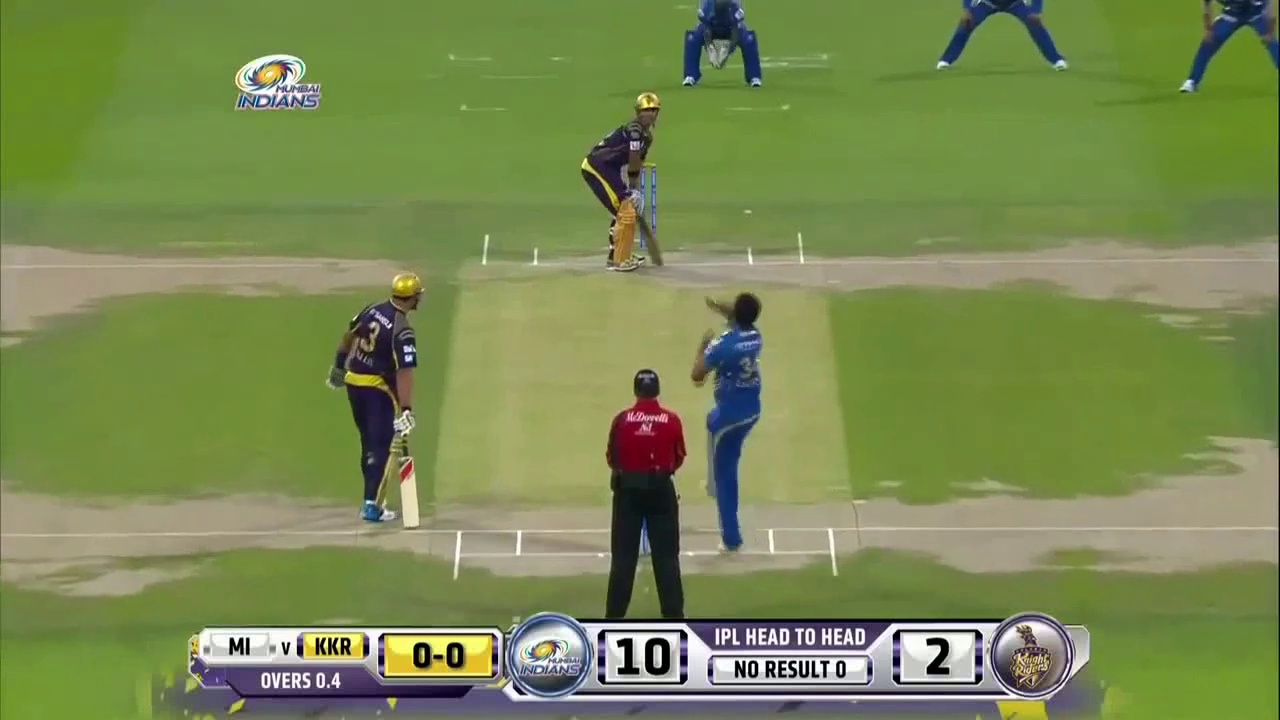bat: (395, 440, 423, 529), (637, 218, 666, 269)
